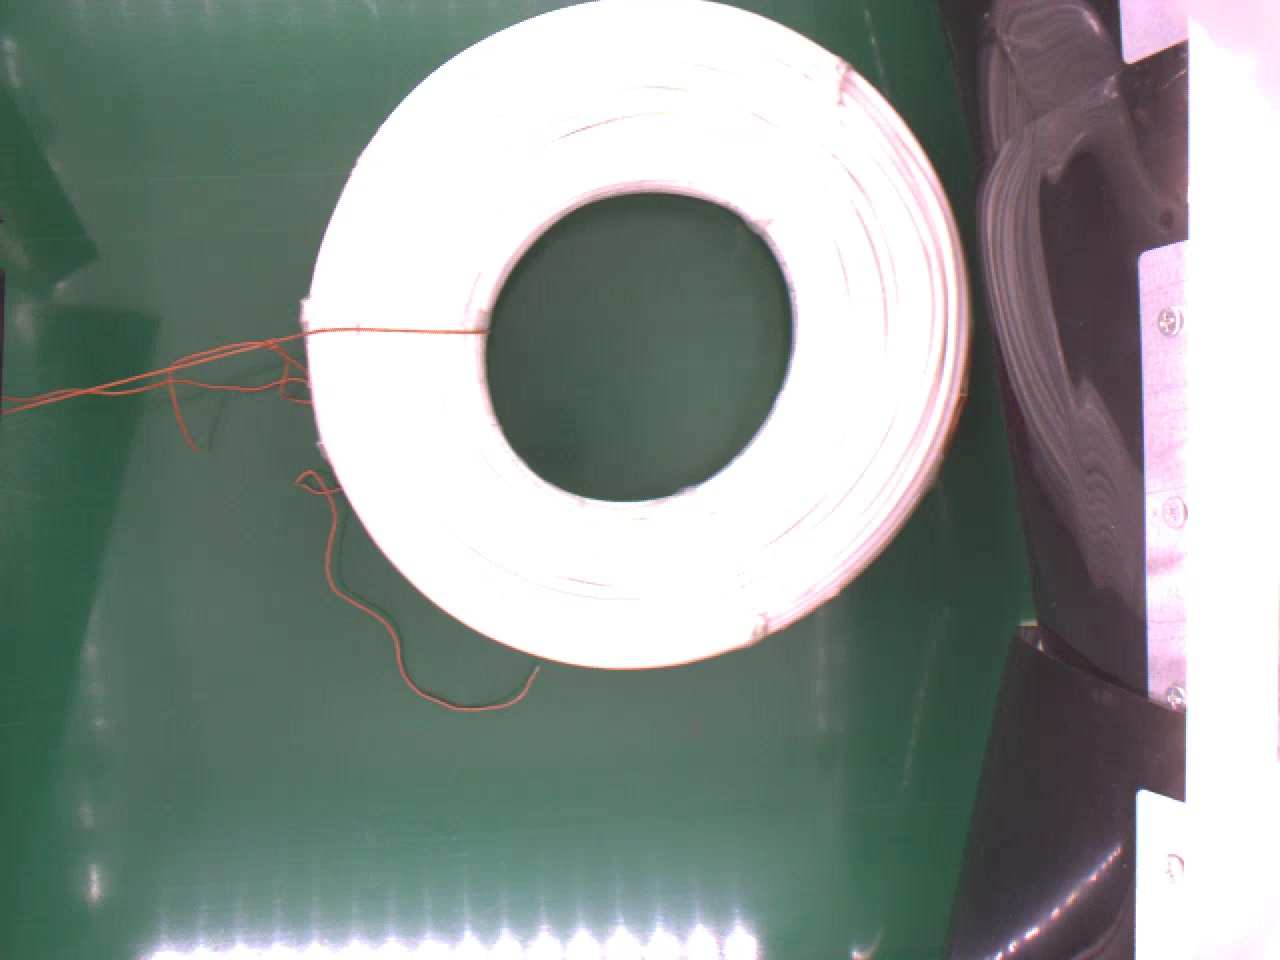white: (296, 0, 985, 675)
